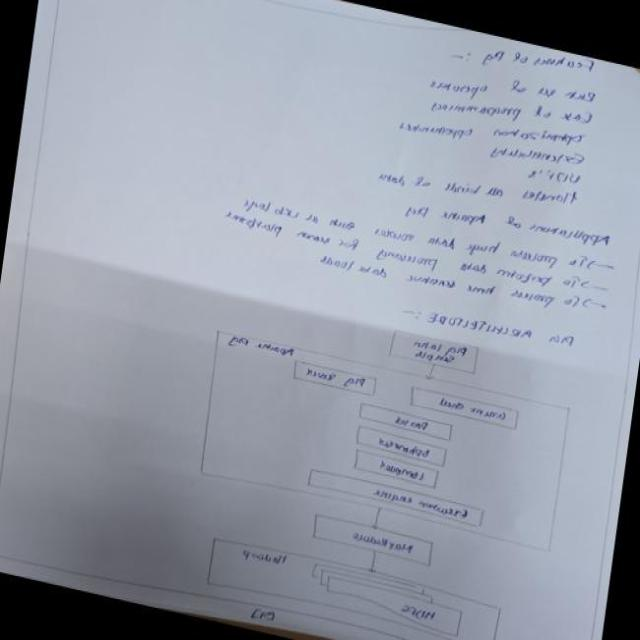Figure Detection - v3 Dataset Version2: (169, 279, 601, 640)
